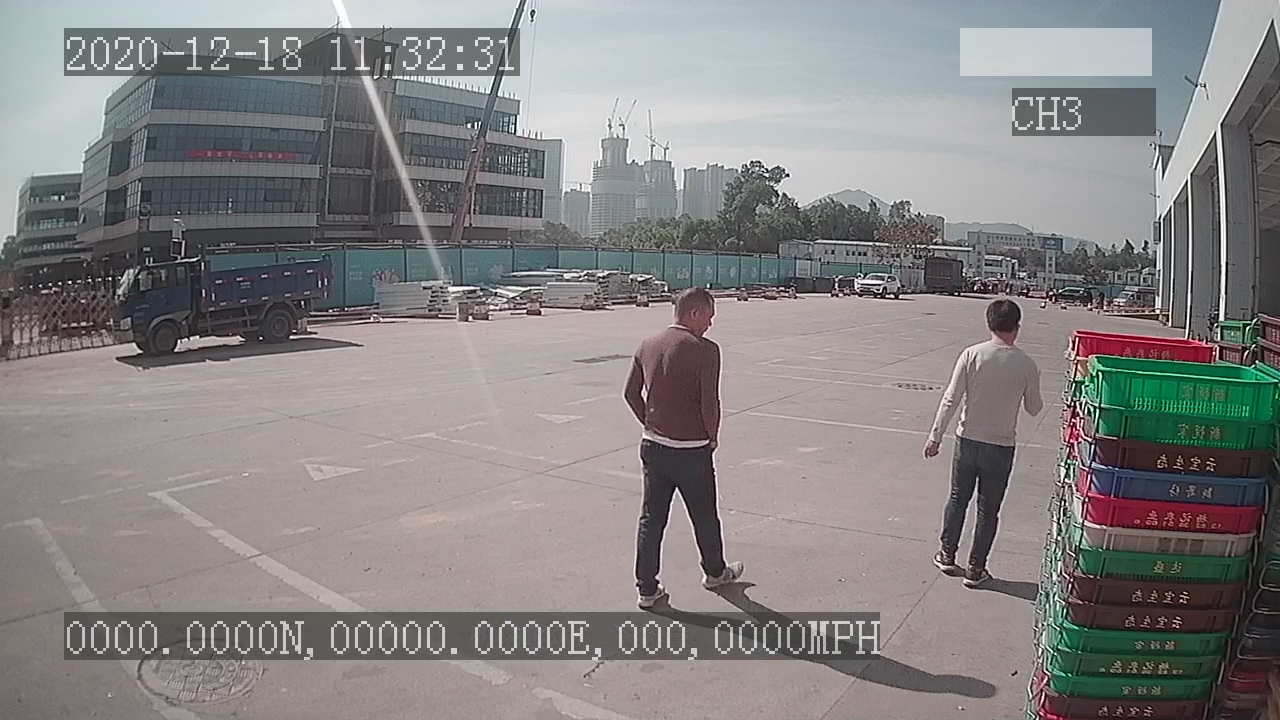person: (619, 284, 752, 608), (924, 288, 1045, 590)
